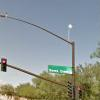Traffic light: (1, 52, 10, 76)
